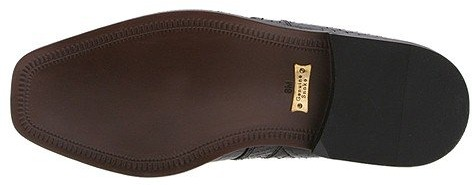circle: (281, 56, 314, 118)
other: (112, 32, 233, 152), (329, 48, 448, 156)
quad: (281, 56, 314, 118)
text: (281, 56, 314, 118), (276, 72, 313, 104)
